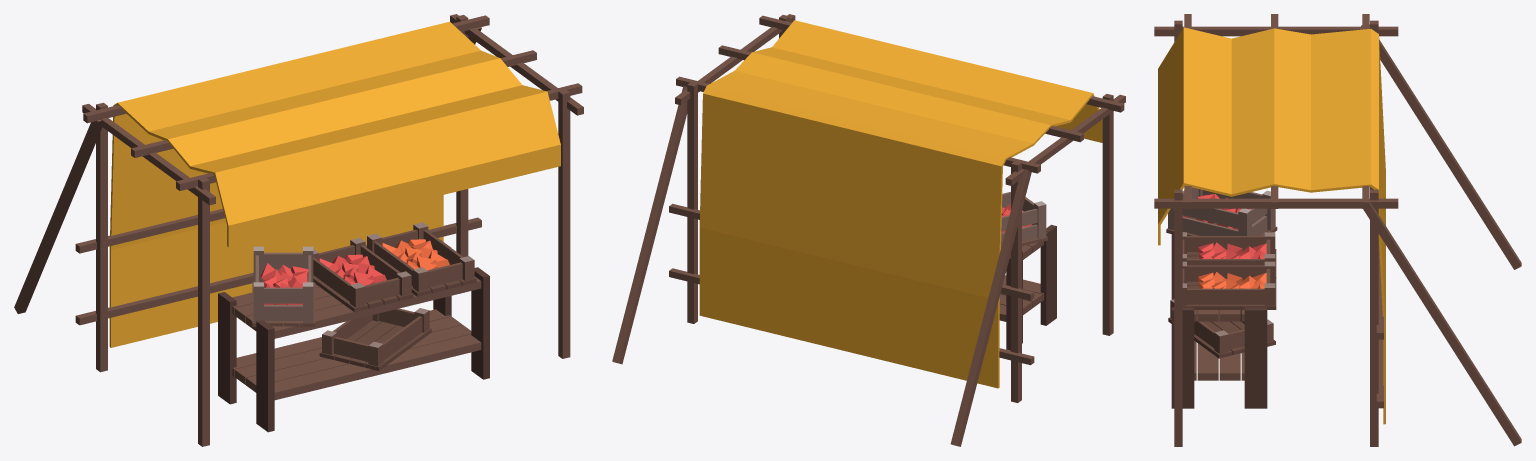
Rendered from props_053.glb.
The picture shows the model from 3 angles, left to right: view 1: azimuth 30°, elevation 25°; view 2: azimuth 150°, elevation 25°; view 3: azimuth 270°, elevation 25°; orthographic projection. The views are drawn at different scales.
Parts seen in each view (by area): view 1: props_053; view 2: props_053; view 3: props_053.
Part boxes in pixels (x1=…): props_053: x1=14, y1=14, x2=583, y2=446; props_053: x1=612, y1=14, x2=1125, y2=446; props_053: x1=1154, y1=14, x2=1521, y2=446.
Bounding box in the file's own units: 6.94 × 4.39 × 5.72.
1 material, 1 textured.
